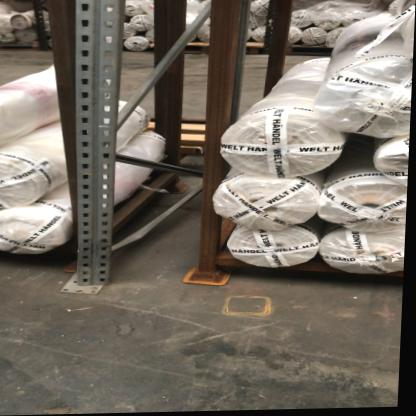vertical_damage: (65, 266, 135, 299)
